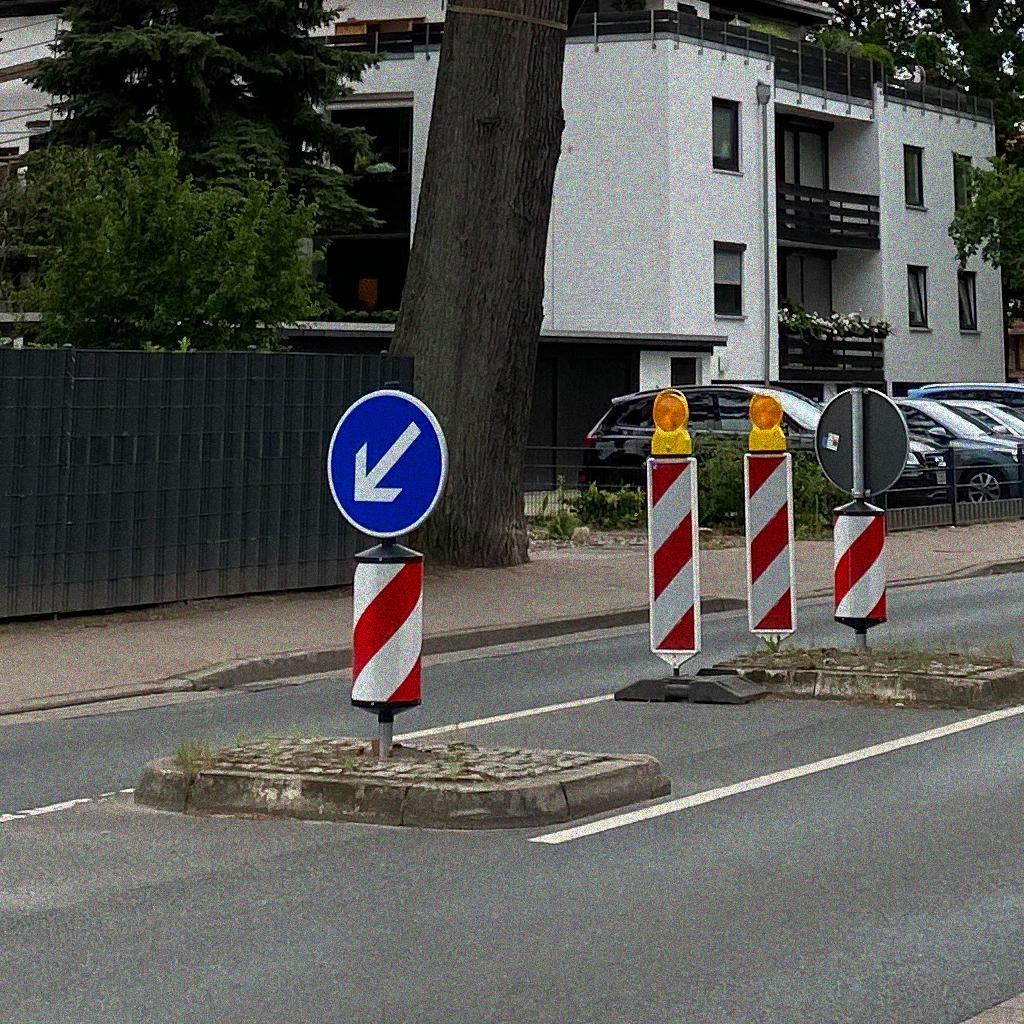tree: (386, 1, 1001, 567), (19, 1, 397, 234), (943, 1, 1005, 98)
